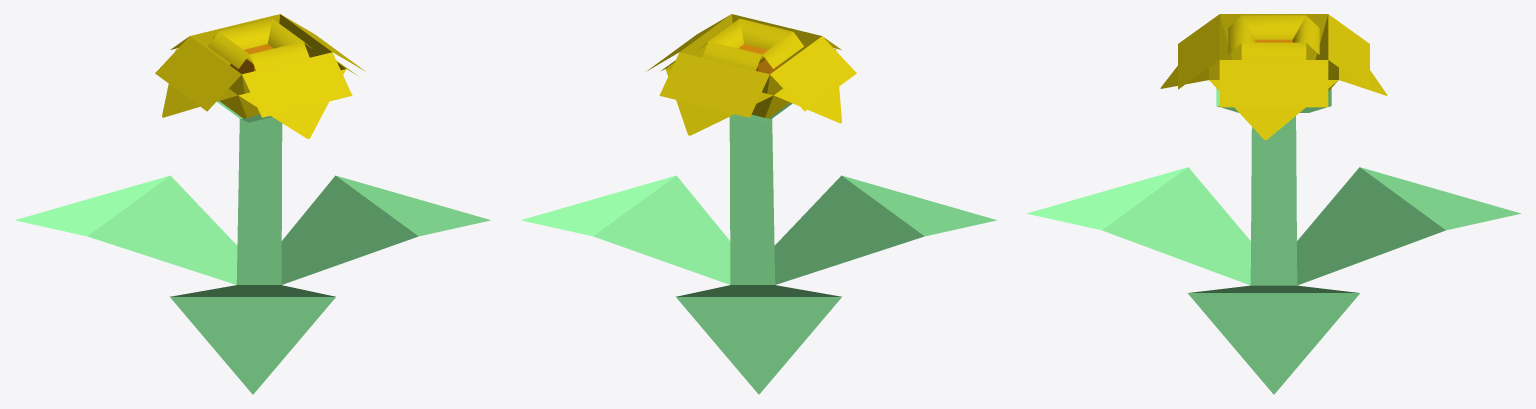
File: 02_dandelion.fbx
The picture shows the model from 3 angles, left to right: view 1: azimuth 30°, elevation 25°; view 2: azimuth 150°, elevation 25°; view 3: azimuth 270°, elevation 25°; orthographic projection. The views are drawn at different scales.
Visible parts, largest first — view 1: flower_purpleA3; view 2: flower_purpleA3; view 3: flower_purpleA3.
Part boxes in pixels (x1,y1,x2,y2): flower_purpleA3: (15,14,490,394); flower_purpleA3: (521,14,996,394); flower_purpleA3: (1027,14,1520,394).
Bounding box in the file's own units: 2.19 × 1.4 × 2.5.
